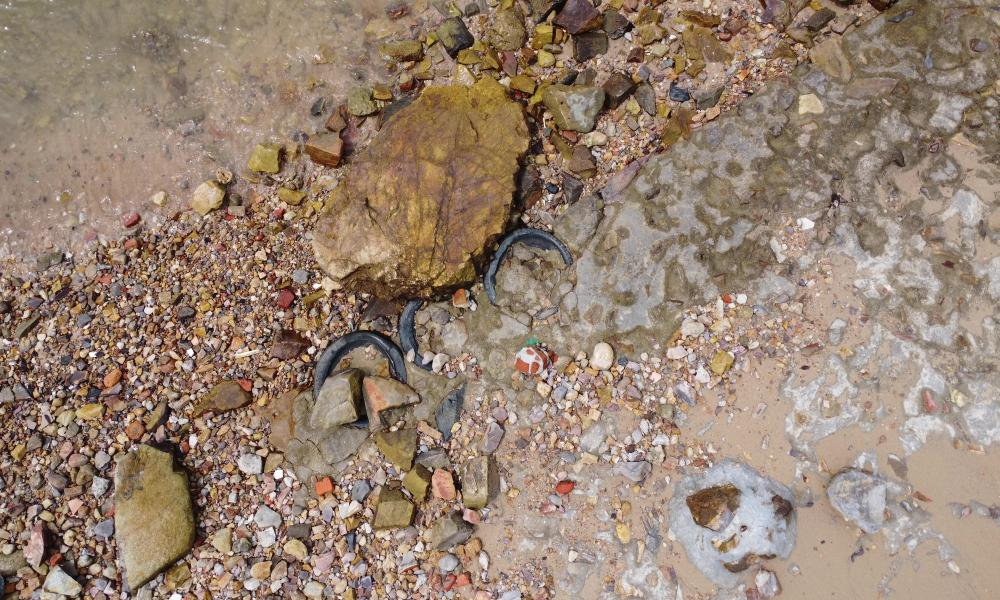tire: (308, 326, 404, 450), (403, 252, 473, 389), (481, 227, 573, 327)
